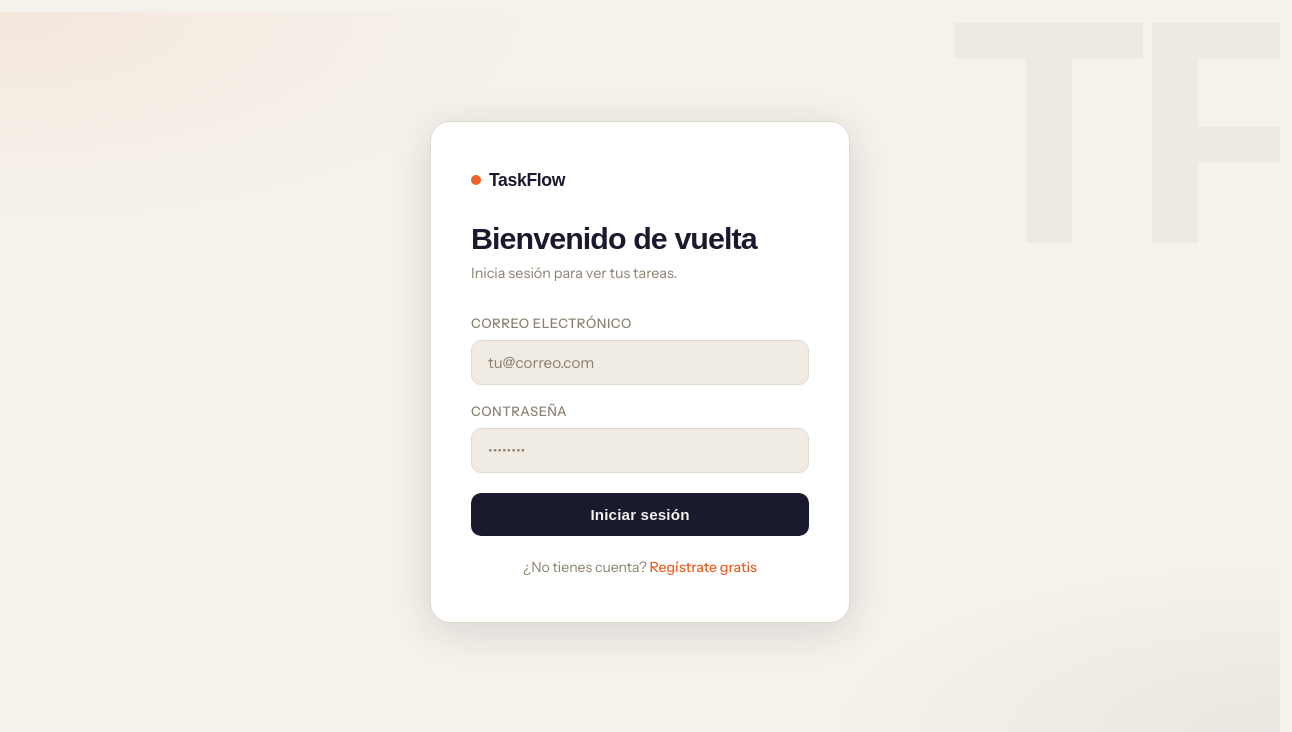
Test: Autenticación › Página de Login › Muestra error con correo vacío
Click the button with test id "submit-btn": (640, 515) [471,493,809,536]
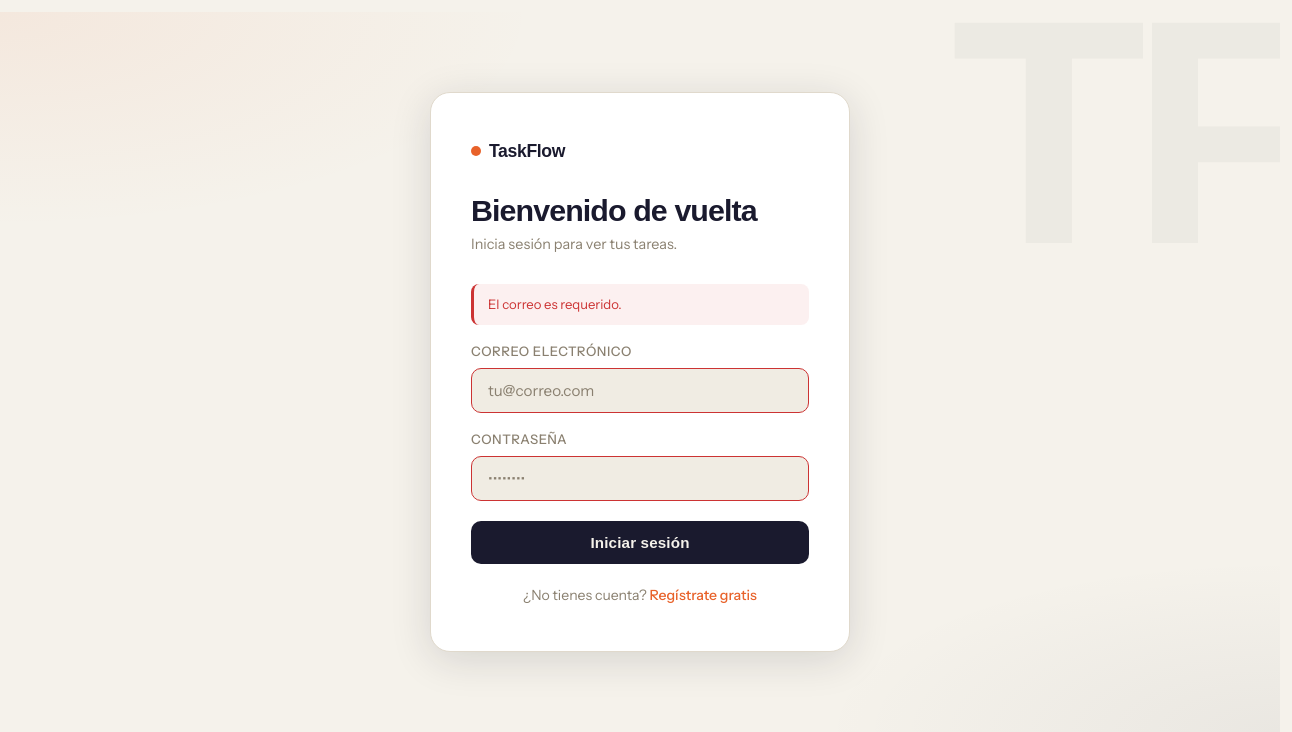
Expected: the text "El correo es requerido." is shown, [471,284,809,325]
